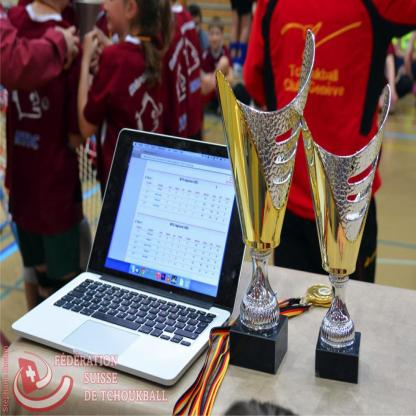board: (12, 125, 246, 388)
